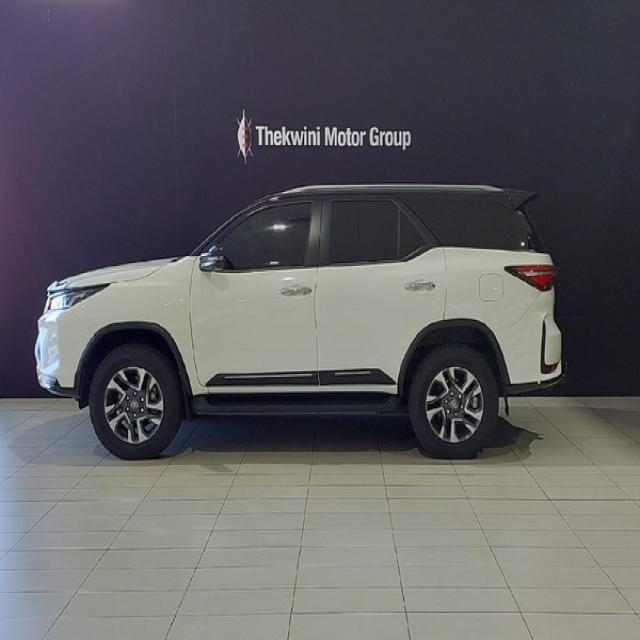light_vehicle: (33, 182, 564, 464)
